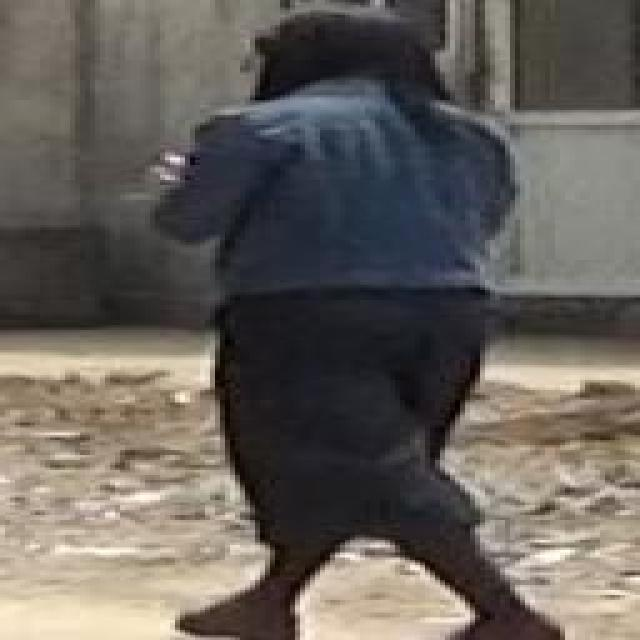adult: (134, 6, 573, 640)
